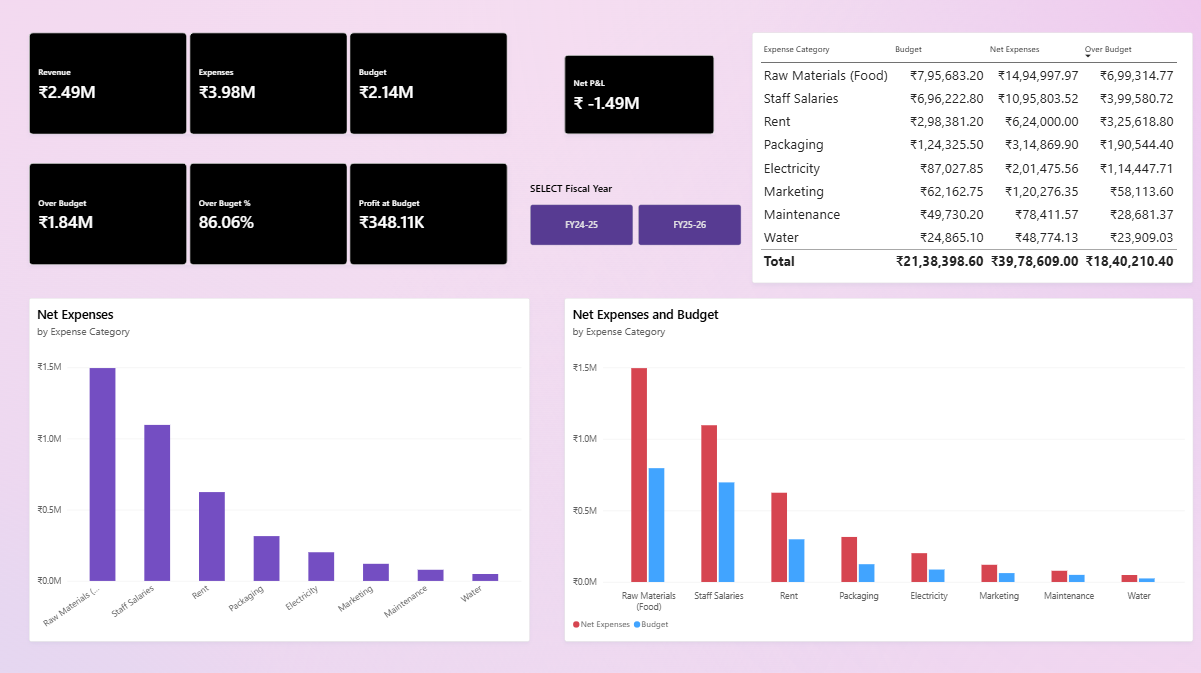

The dashboard page shown, as its layout file describes it:
{"tool":"powerbi","page":{"name":"Expense Control","canvas":[1920,1080],"ordinal":4},"visuals":[{"type":"cardVisual","fields":{"Data":["Key Measures Table.Over Budget","Key Measures Table.Over Buget %","Key Measures Table.Profit at Budget"]},"box":[47.7,262.5,763.5,162.2],"z":0},{"type":"cardVisual","fields":{"Data":["Key Measures Table.Revenue","Key Measures Table.Positive Expenses","Key Measures Table.Budget"]},"box":[47.7,54.9,763.5,162.2],"z":1000},{"type":"clusteredColumnChart","fields":{"Category":["Cost Benchmarks.Expense_Category"],"Y":["Key Measures Table.Net Expenses","Key Measures Table.Budget"]},"box":[899.5,477.2,999.7,546.4],"z":2000},{"type":"tableEx","fields":{"Values":["Cost Benchmarks.Expense Category","Key Measures Table.Positive Expenses","Key Measures Table.Budget","Key Measures Table.Over Budget"]},"box":[1197.7,54.9,684.8,398.4],"z":3000},{"type":"advancedSlicerVisual","fields":{"Values":["DimDate.FiscalYear"]},"box":[844.6,291.1,336.4,102.6],"z":4000},{"type":"clusteredColumnChart","fields":{"Category":["Cost Benchmarks.Expense Category"],"Y":["Key Measures Table.Net Expenses"]},"box":[47.7,477.2,796.9,546.4],"z":5000},{"type":"cardVisual","fields":{"Data":["Key Measures Table.Net P&L"]},"box":[899.5,90.7,238.6,126.5],"z":5001}]}

Visuals, with their boxes in screenshot pixels (x1, y1, x2, y2), scaled from the page's 1920x1080 canvas onto the 1201x673 screenshot:
cardVisual - Key Measures Table.Over Budget x Key Measures Table.Over Buget %: box(30, 164, 507, 265)
cardVisual - Key Measures Table.Revenue x Key Measures Table.Positive Expenses: box(30, 34, 507, 135)
clusteredColumnChart - Cost Benchmarks.Expense_Category x Key Measures Table.Net Expenses: box(563, 297, 1188, 638)
tableEx - Cost Benchmarks.Expense Category x Key Measures Table.Positive Expenses: box(749, 34, 1178, 282)
advancedSlicerVisual - DimDate.FiscalYear: box(528, 181, 739, 245)
clusteredColumnChart - Cost Benchmarks.Expense Category x Key Measures Table.Net Expenses: box(30, 297, 528, 638)
cardVisual - Key Measures Table.Net P&L: box(563, 57, 712, 135)
